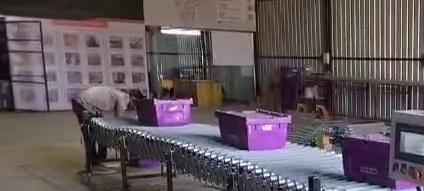box: (341, 134, 414, 189), (215, 109, 290, 150), (136, 99, 192, 126)
